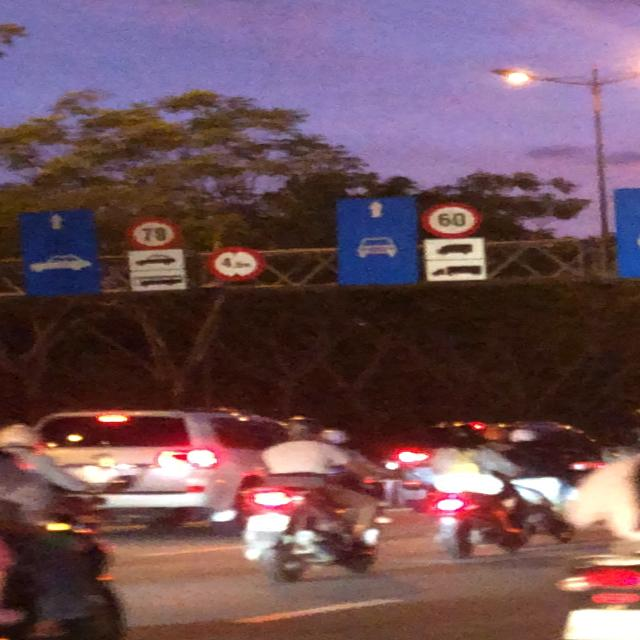Bien bao han che chieu cao: (206, 246, 268, 286)
Bien bao toc do toi da cho phep: (417, 202, 485, 240), (123, 211, 183, 252)
